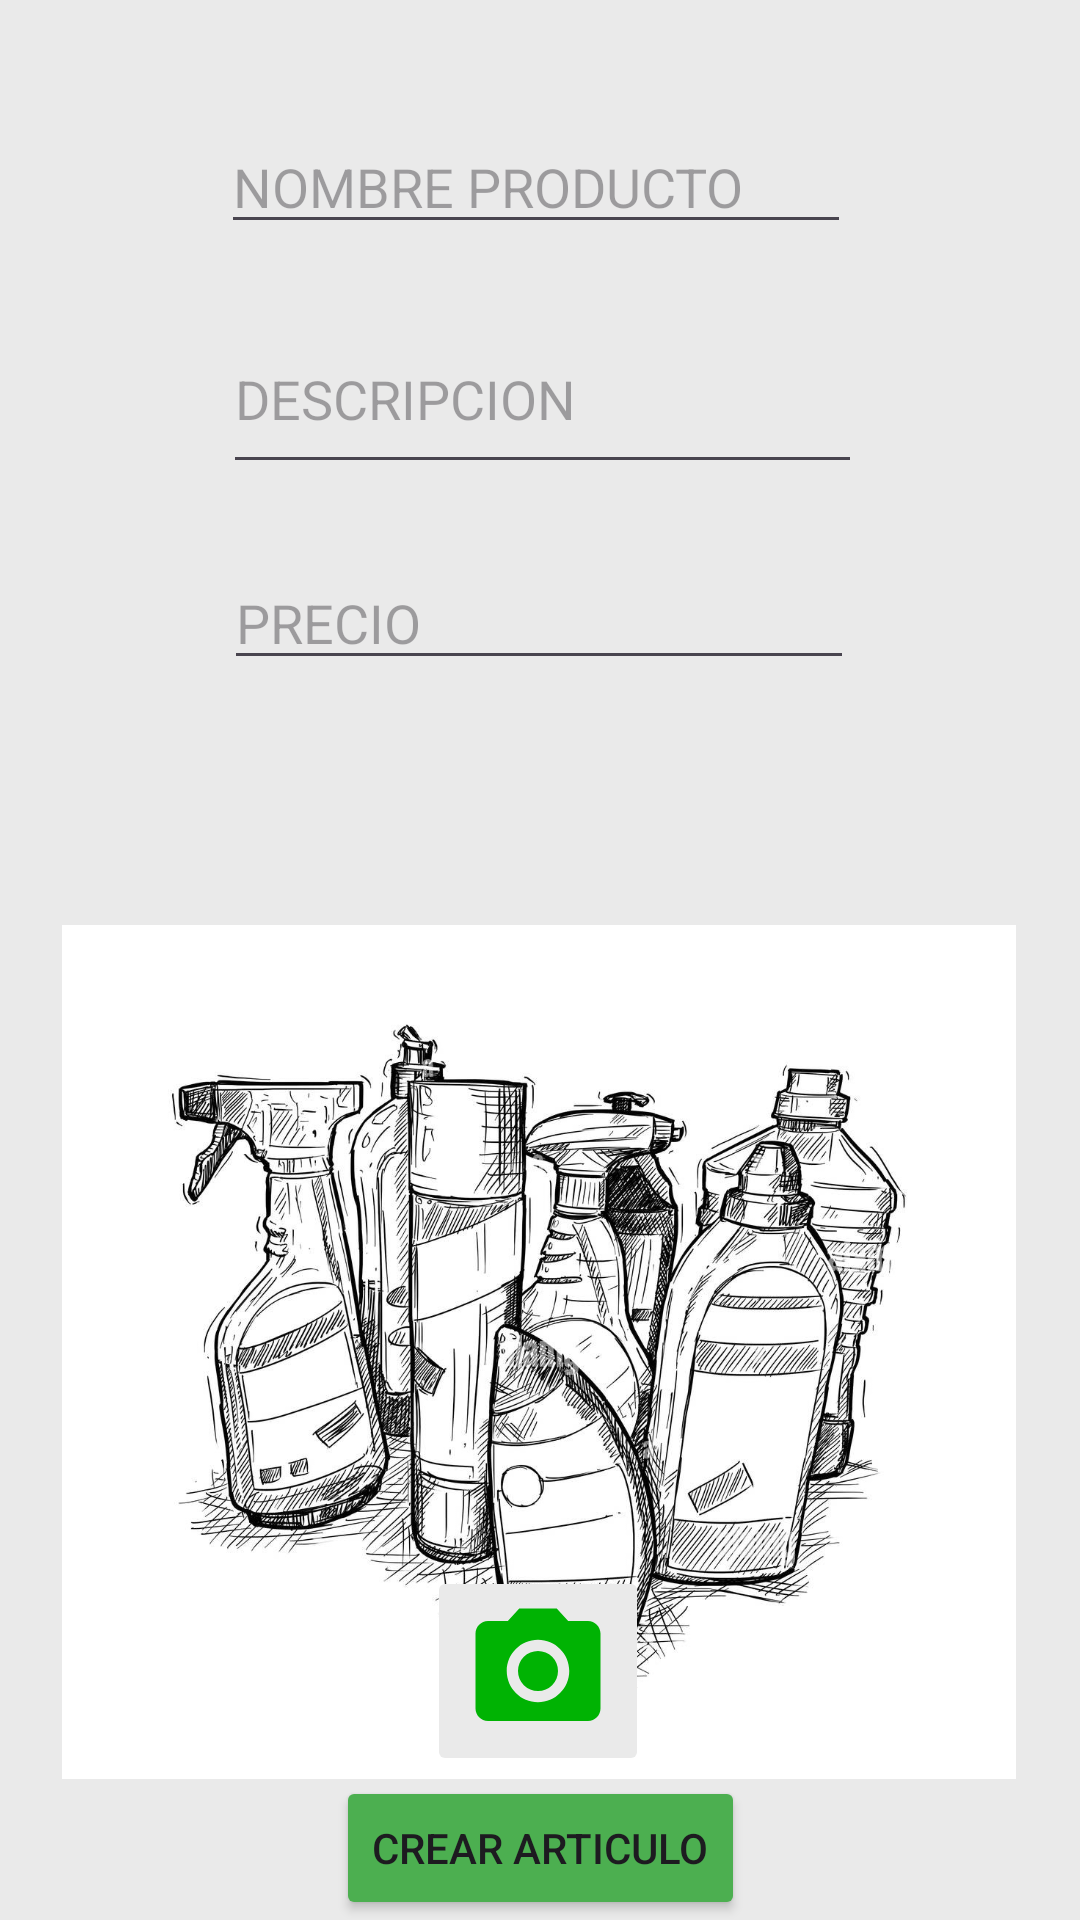

Icon click points for this 1080px×1920px phone screenshot, format (x=x, y=y):
photo camera: (x=538, y=1662)
